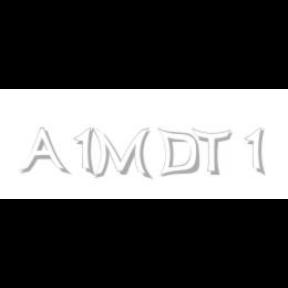1: (73, 128, 95, 176), (244, 128, 266, 176)
A: (19, 128, 67, 176)
D: (156, 128, 200, 178)
M: (92, 128, 150, 180)
T: (192, 128, 232, 176)
